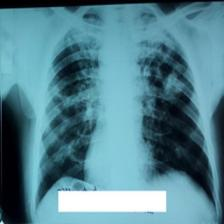tuberculosis: (24, 5, 224, 224)
